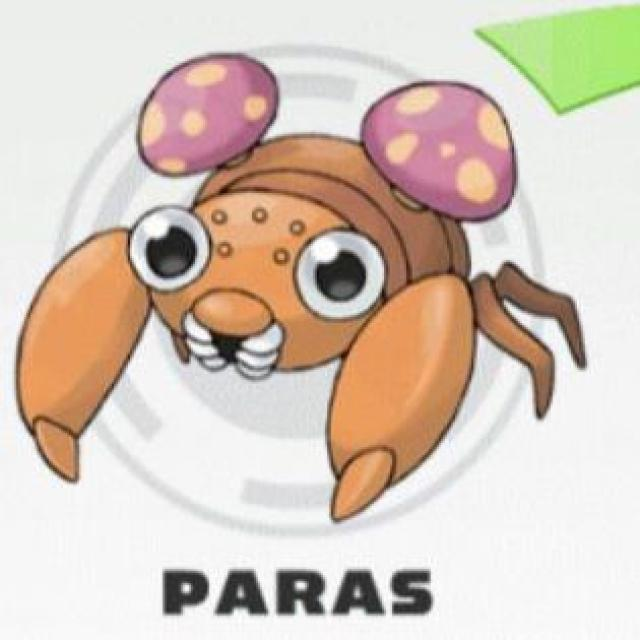Paras: (14, 50, 523, 501)
